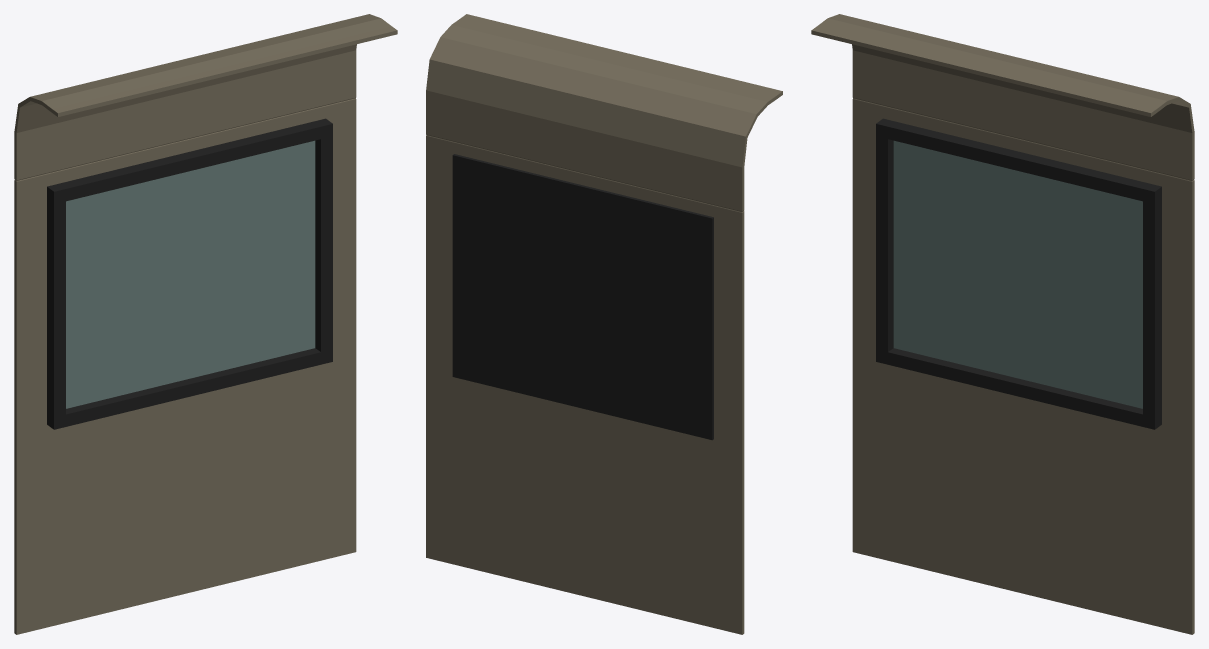
File: SM_wall_ext_01.fbx
3 renders of one model, left to right at view 1: azimuth 30°, elevation 25°; view 2: azimuth 150°, elevation 25°; view 3: azimuth 330°, elevation 25°, orthographic. The views are drawn at different scales.
Parts seen in each view (by area): view 1: wall_ext_01; view 2: wall_ext_01; view 3: wall_ext_01.
Part boxes in pixels (x1,y1,x2,y2): wall_ext_01: (14,14,397,634); wall_ext_01: (426,14,782,634); wall_ext_01: (811,14,1194,634).
Bounding box in the file's own units: 200 × 311 × 46.25.
